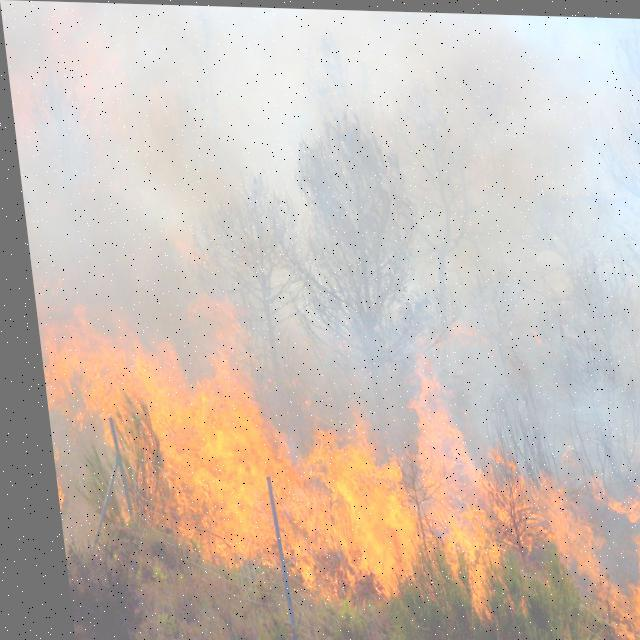Fire: (38, 297, 639, 639)
